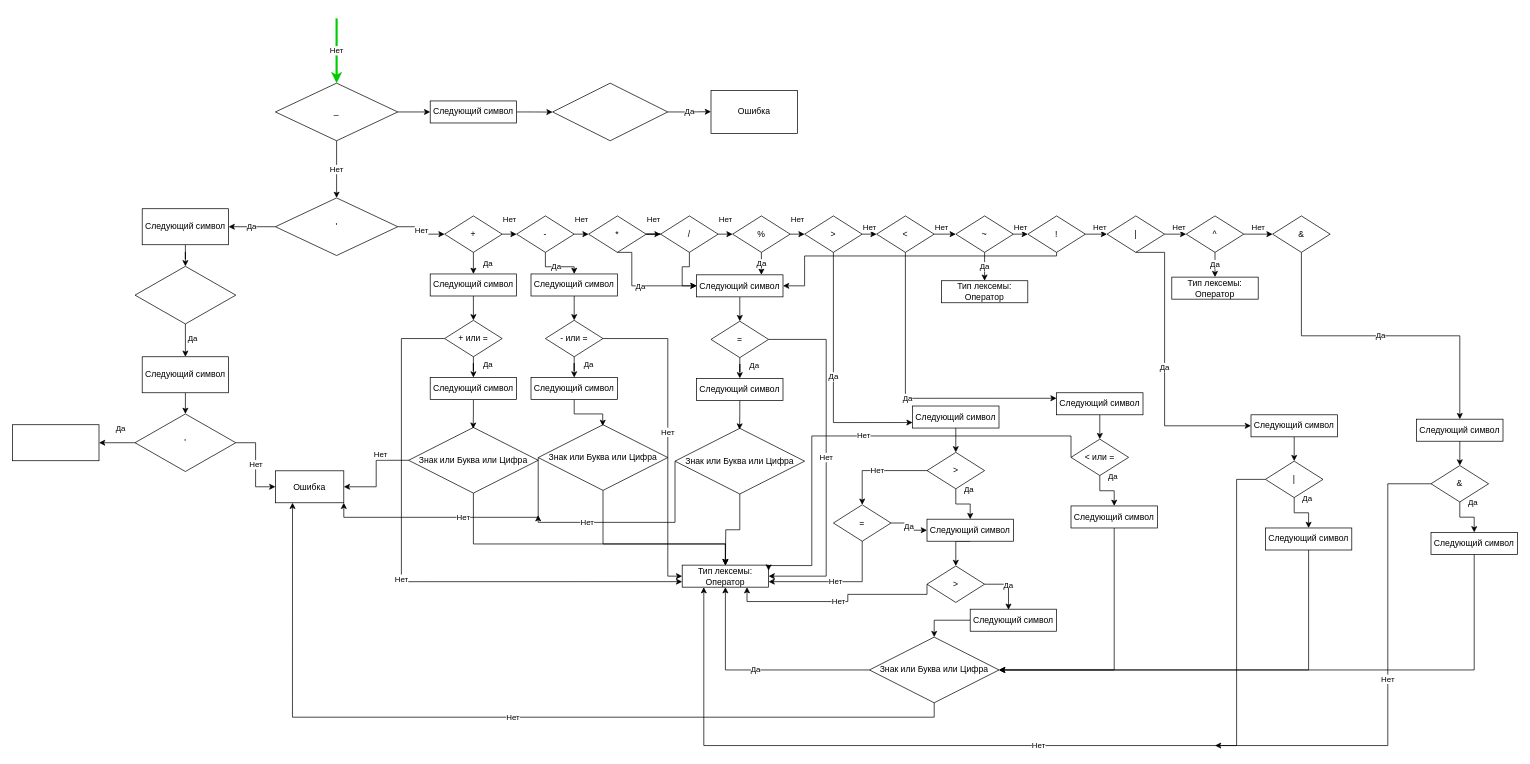
Some shapes in this 1530 by 764 pixel diagram are drawn without their labels. Each missing label, with the box of its shape:
Буква или Цифра: (552, 82, 668, 141)
Любой допустимый: (134, 266, 236, 324)
Тип лексемы: Строка: (12, 424, 99, 461)
